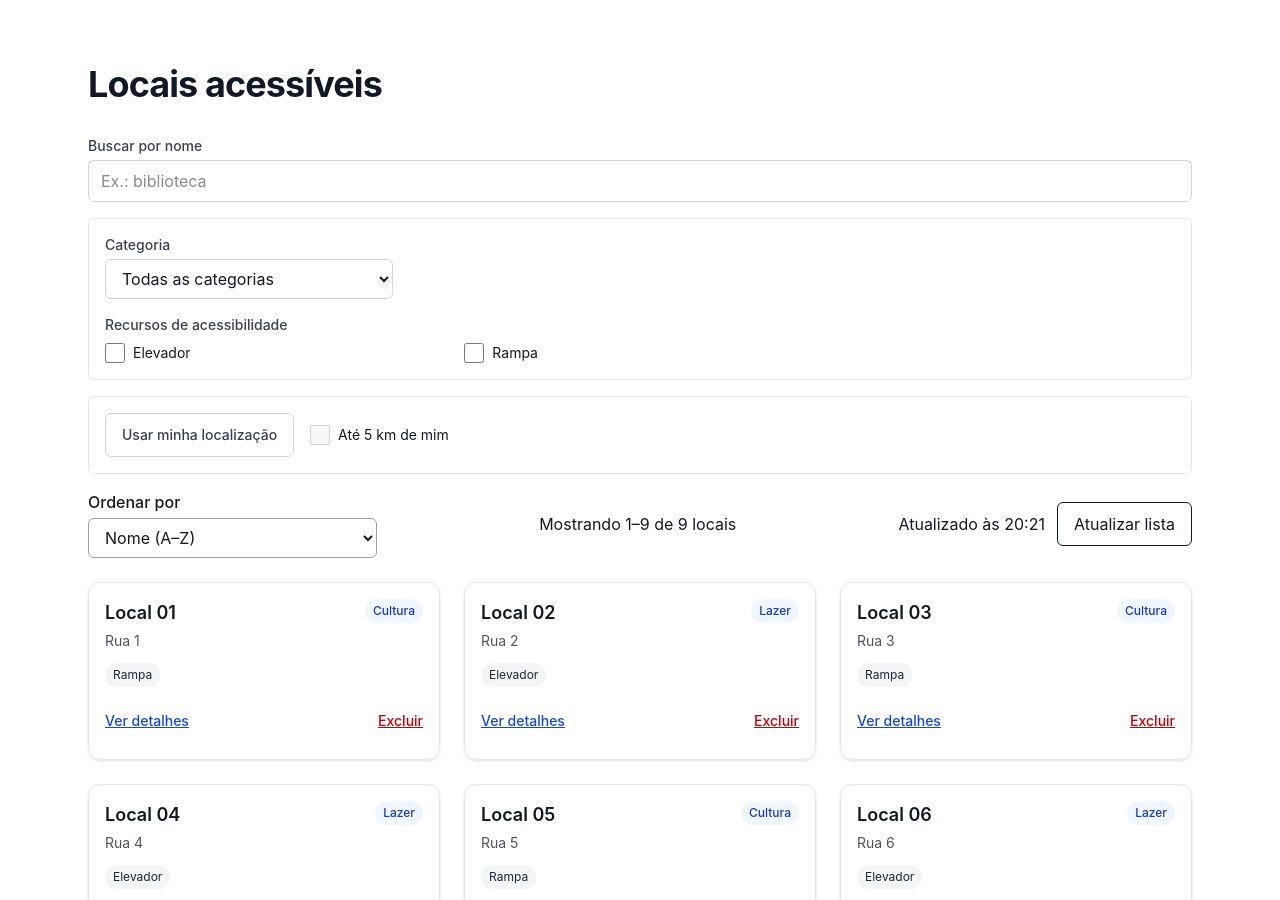
Test case: Paginação integrada à listagem › esconde a navegação com nove locais e conta zero quando a busca não encontra
expect the heading "Local 01" is shown: met, box x1=105 y1=599 x2=176 y2=627
Type "ausente" into the search field.
click(640, 181); type("ausente")  # box x1=88 y1=160 x2=1192 y2=202
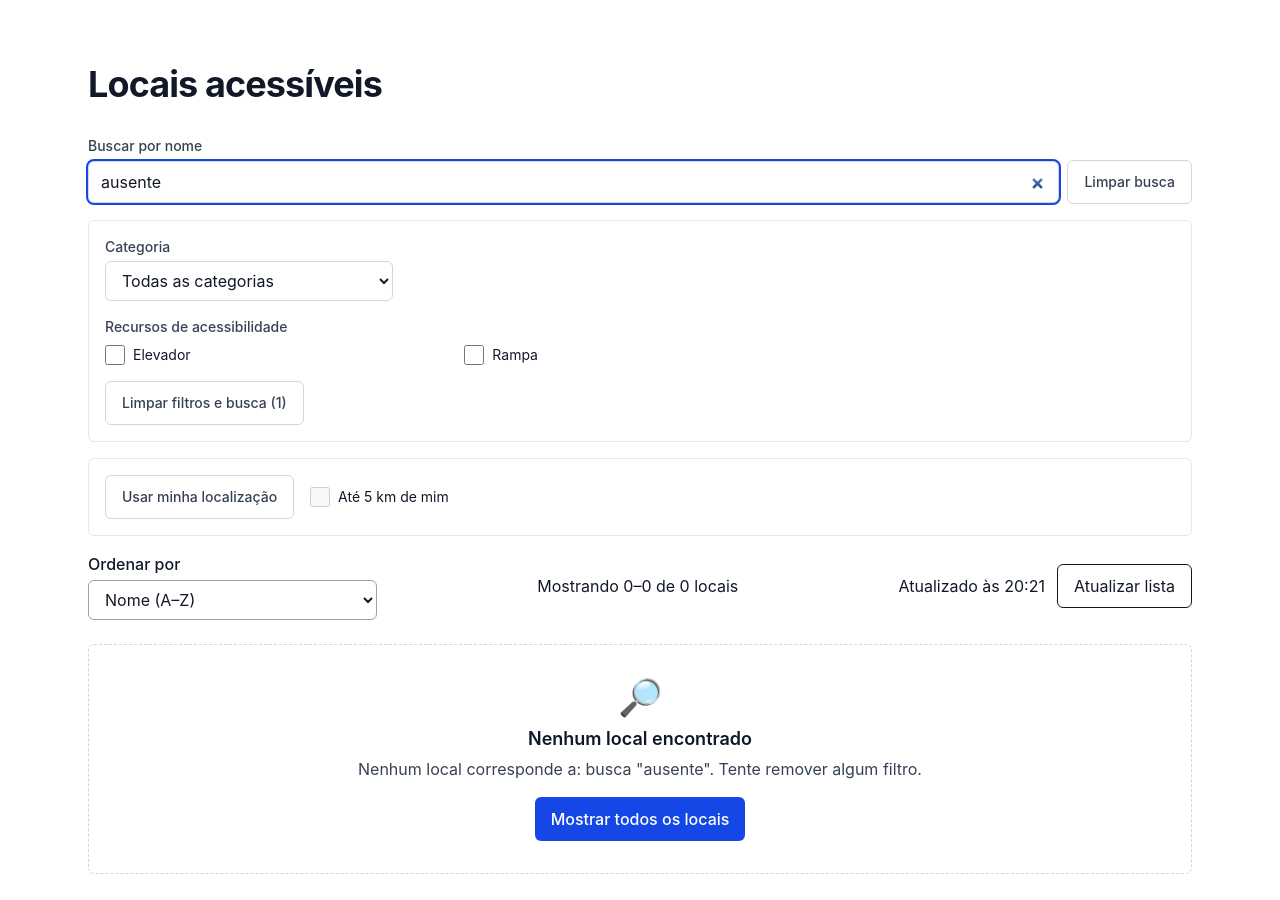
expect the text "Mostrando 0–0 de 0 locais" is shown: met, box x1=537 y1=574 x2=738 y2=598
expect the text "Nenhum local encontrado" is shown: met, box x1=528 y1=728 x2=752 y2=749
expect the text "Nenhum local corresponde a: busca \"ausente\". Tente remover algum filtro." is shown: met, box x1=358 y1=759 x2=922 y2=779
